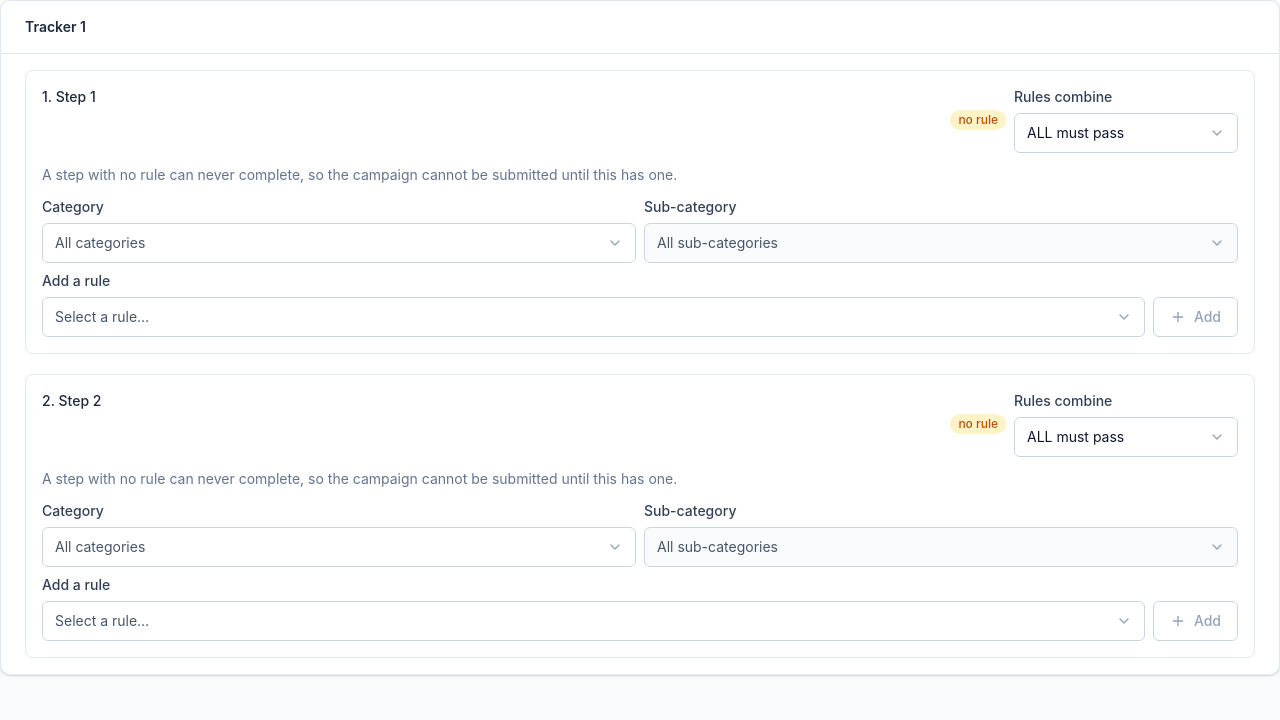
ComponentRulesStep — Add-a-rule category/sub-category filter (T-112) › TC-4: each component keeps its own independent filter
Click the dropdown named "category" at (100, 242), box [42, 223, 636, 263]
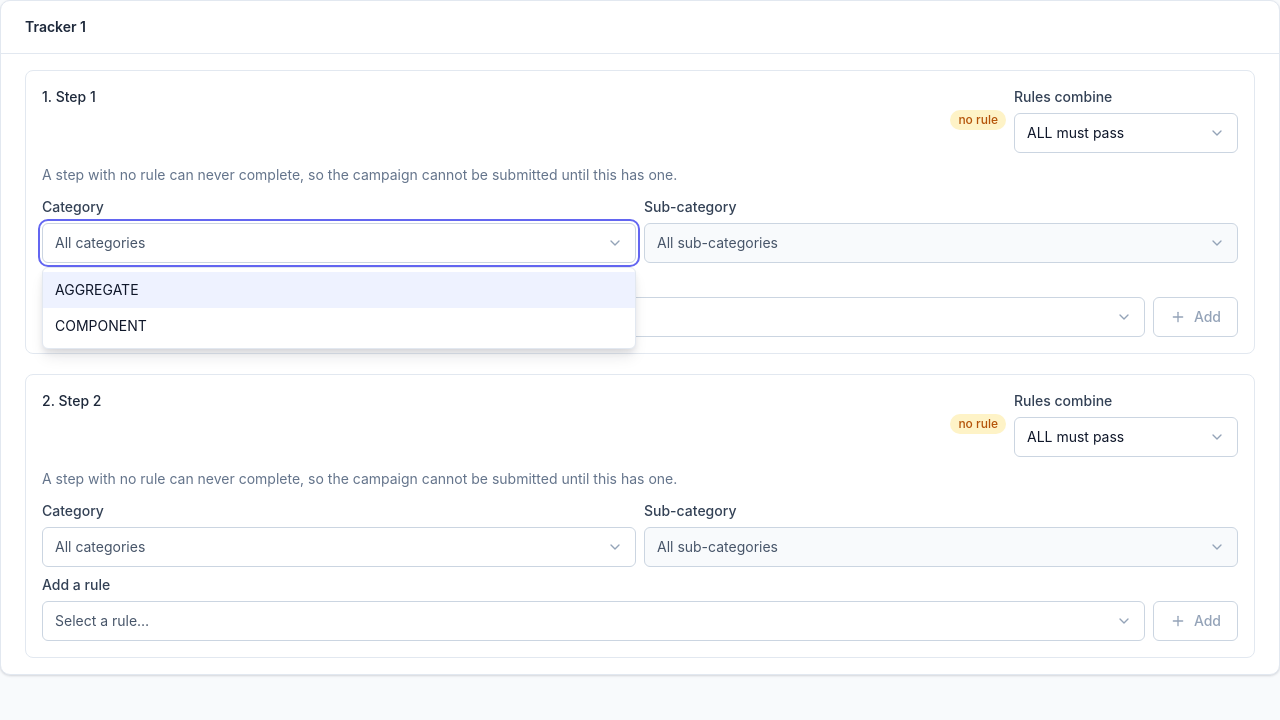
Click the option "COMPONENT" at (101, 326), box [55, 317, 147, 334]
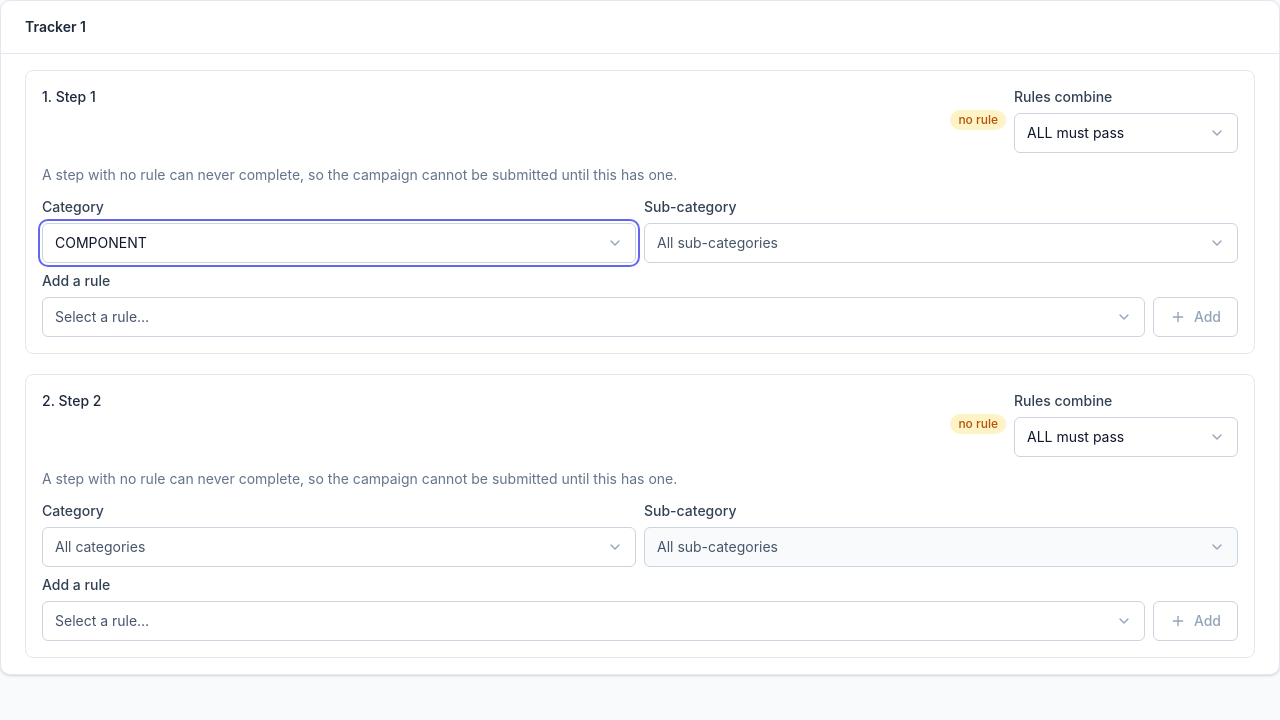
Expected: the dropdown named "category" reads "All categories", [42, 527, 636, 567]
Expected: the dropdown named "category" reads "COMPONENT", [42, 223, 636, 263]
